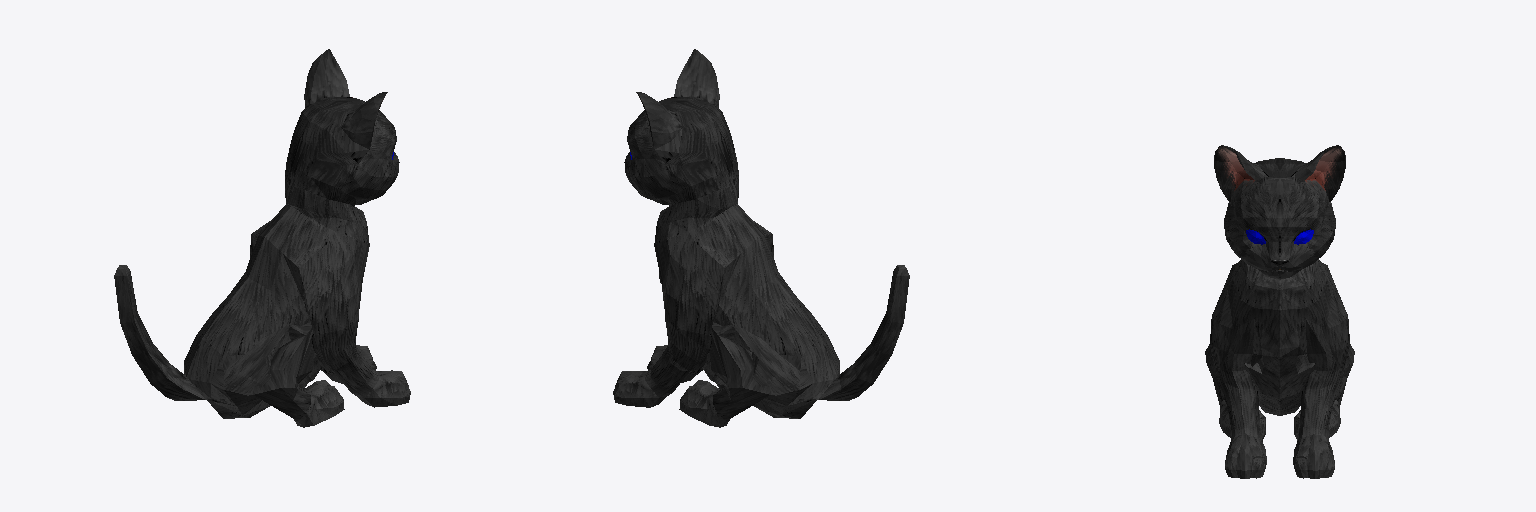
3 views of the same model, side by side, from view 1: azimuth 30°, elevation 25°; view 2: azimuth 150°, elevation 25°; view 3: azimuth 270°, elevation 25° (orthographic).
Parts seen in each view (by area): view 1: Cat_Object01; view 2: Cat_Object01; view 3: Cat_Object01.
Boxes of the visible parts, x1,y1,x2,y2 form: Cat_Object01: [114, 49, 410, 427]; Cat_Object01: [613, 49, 909, 427]; Cat_Object01: [1205, 145, 1354, 478].
Size of the model in its own units: 5.39 by 5.84 by 2.46.
2 materials, 1 textured.